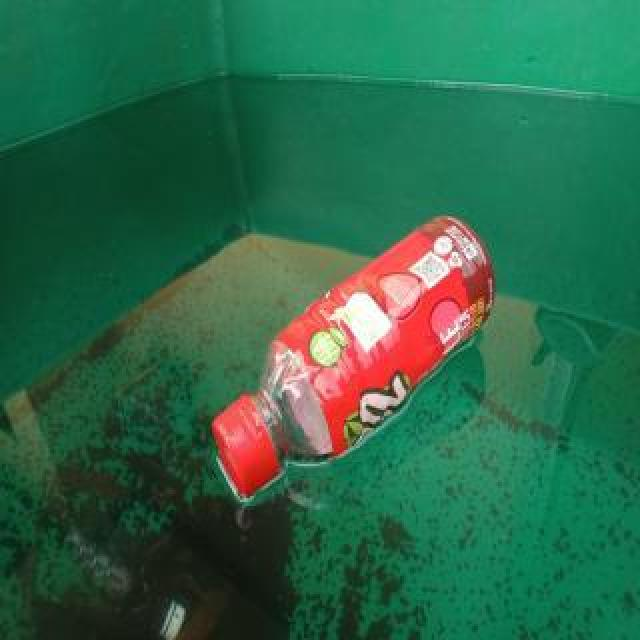bottle: (211, 209, 499, 499)
